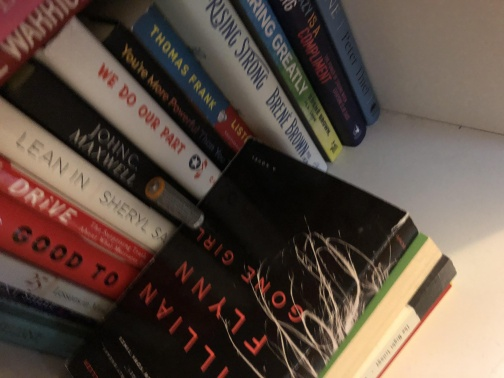battery: (142, 175, 208, 232)
